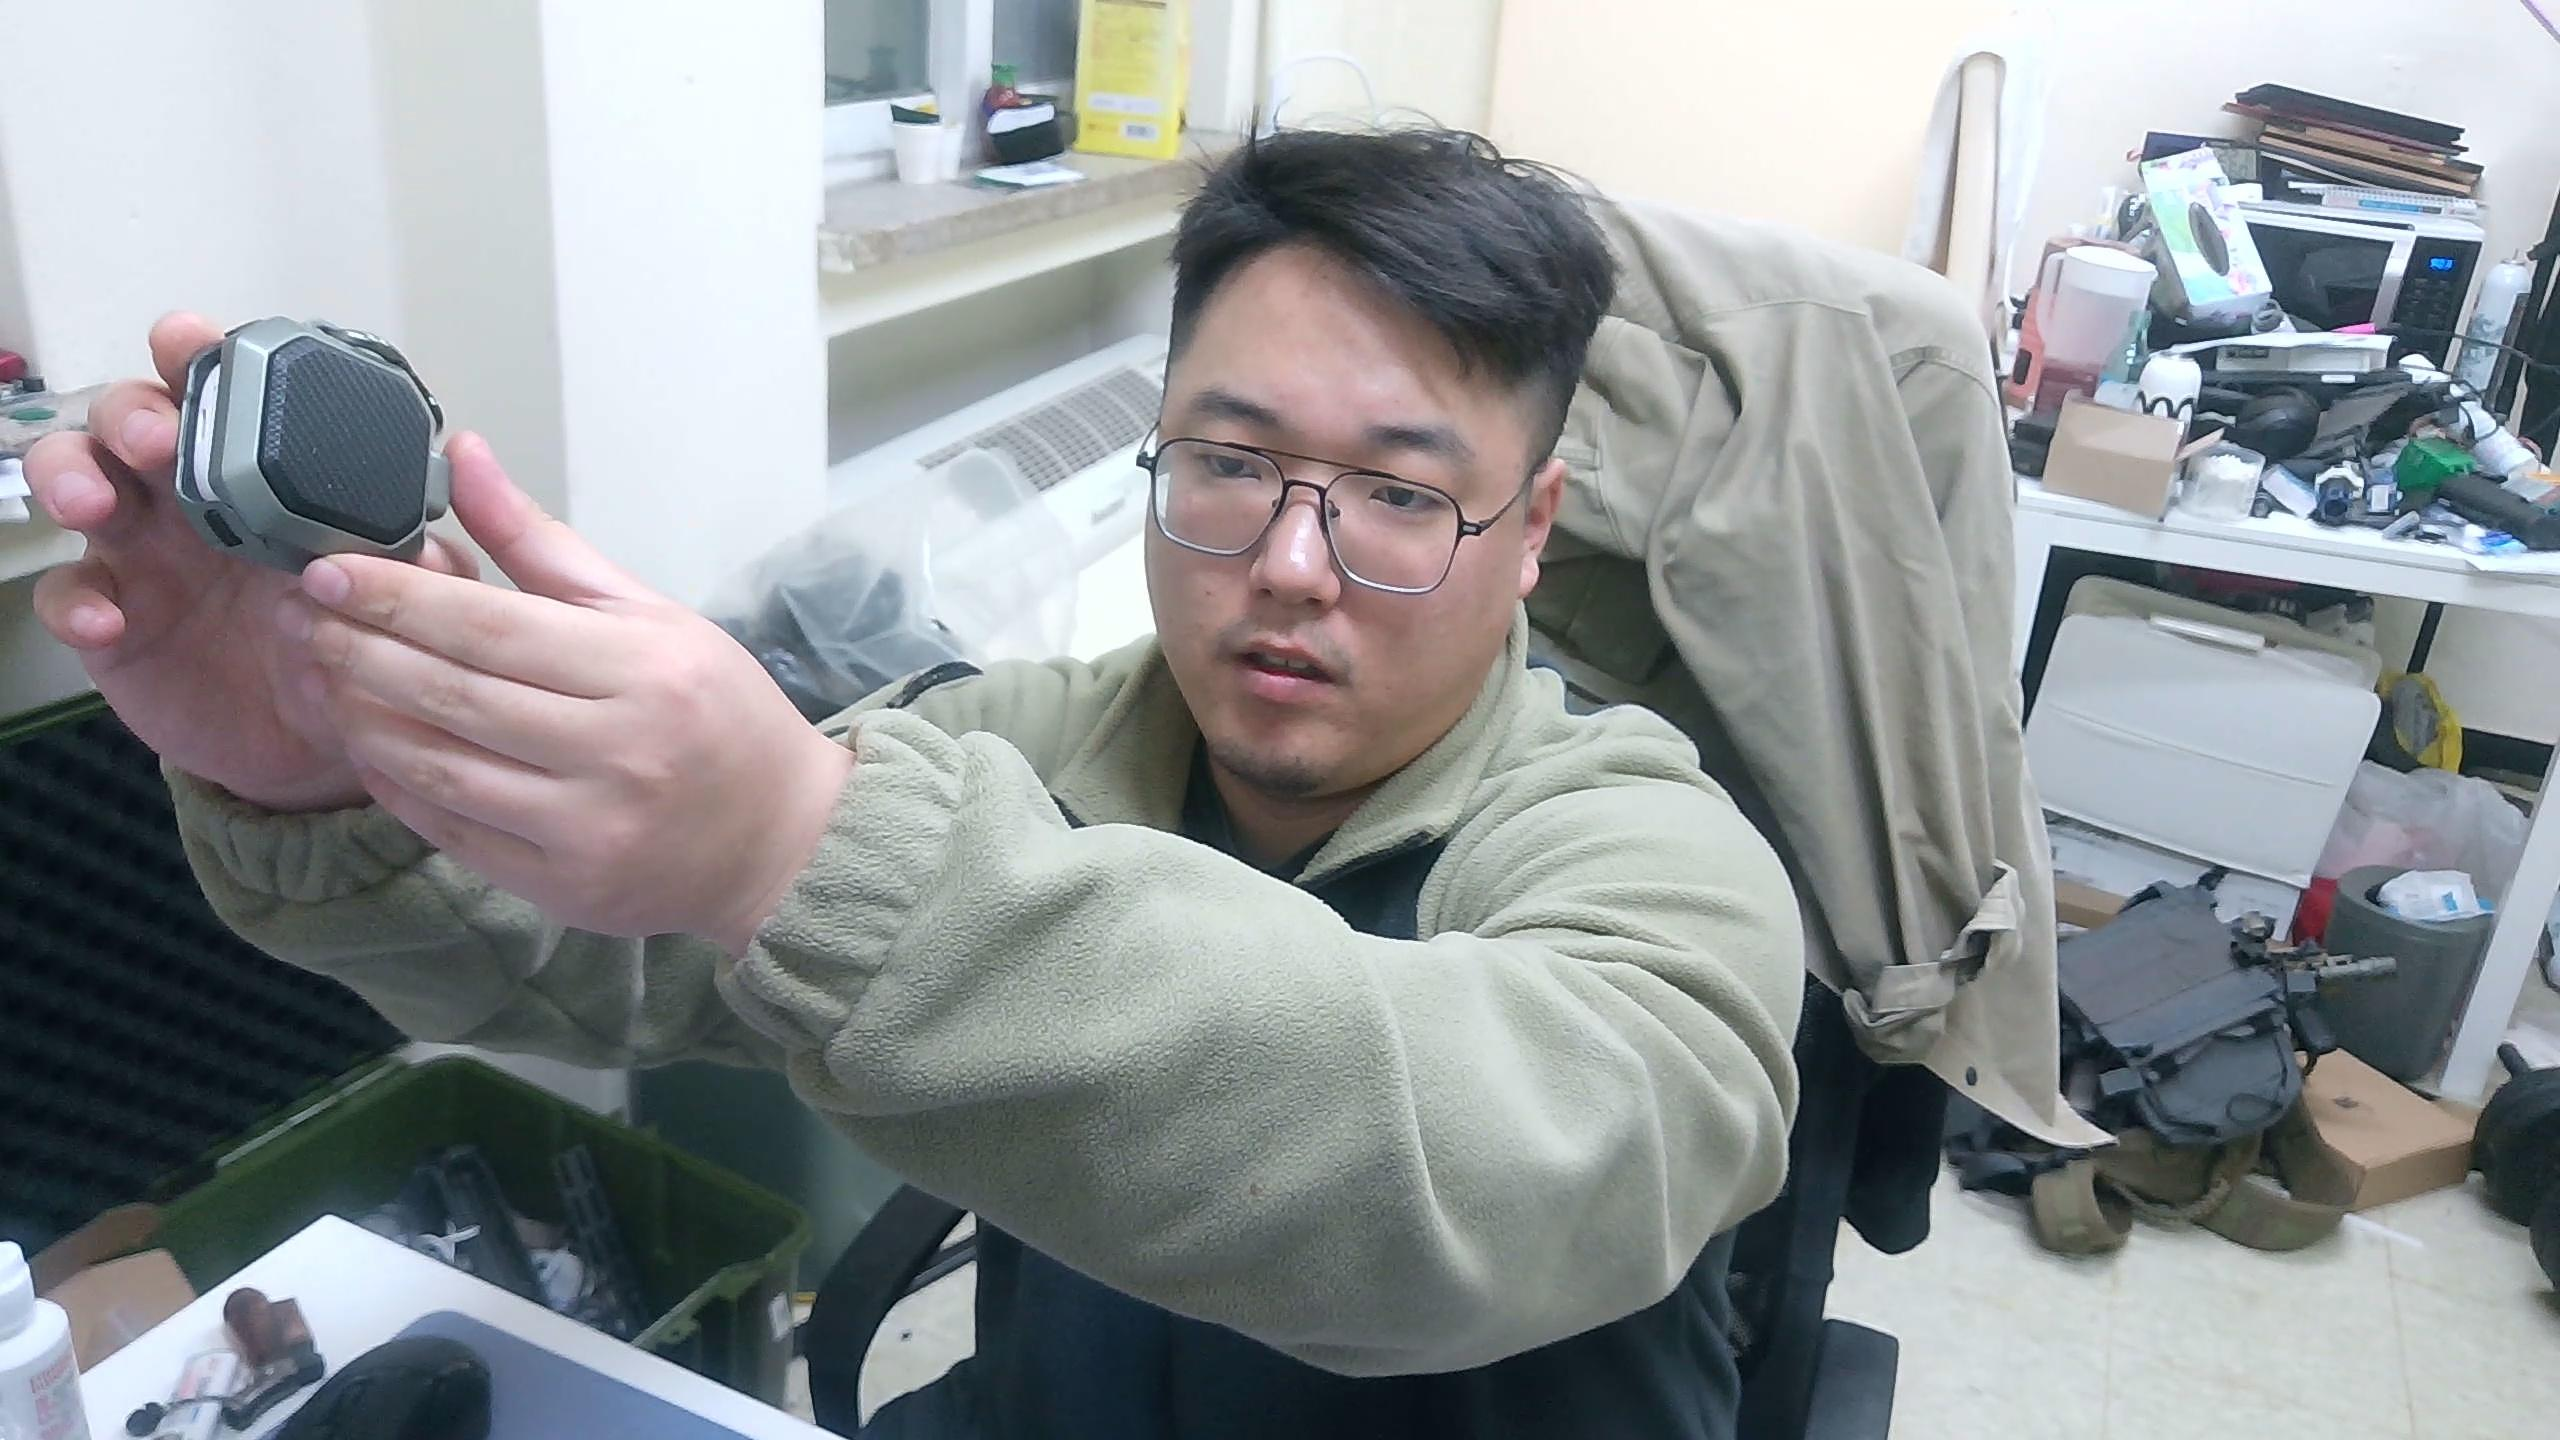blue_pliers: (171, 313, 454, 578)
